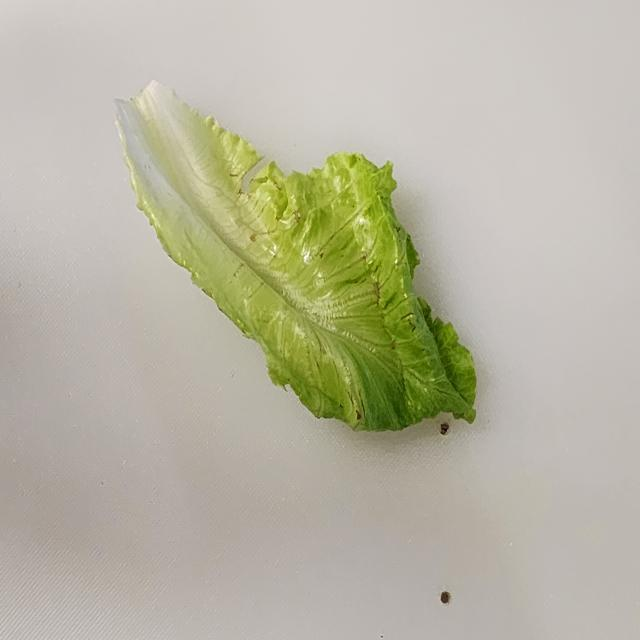lettuce: (113, 78, 478, 434)
